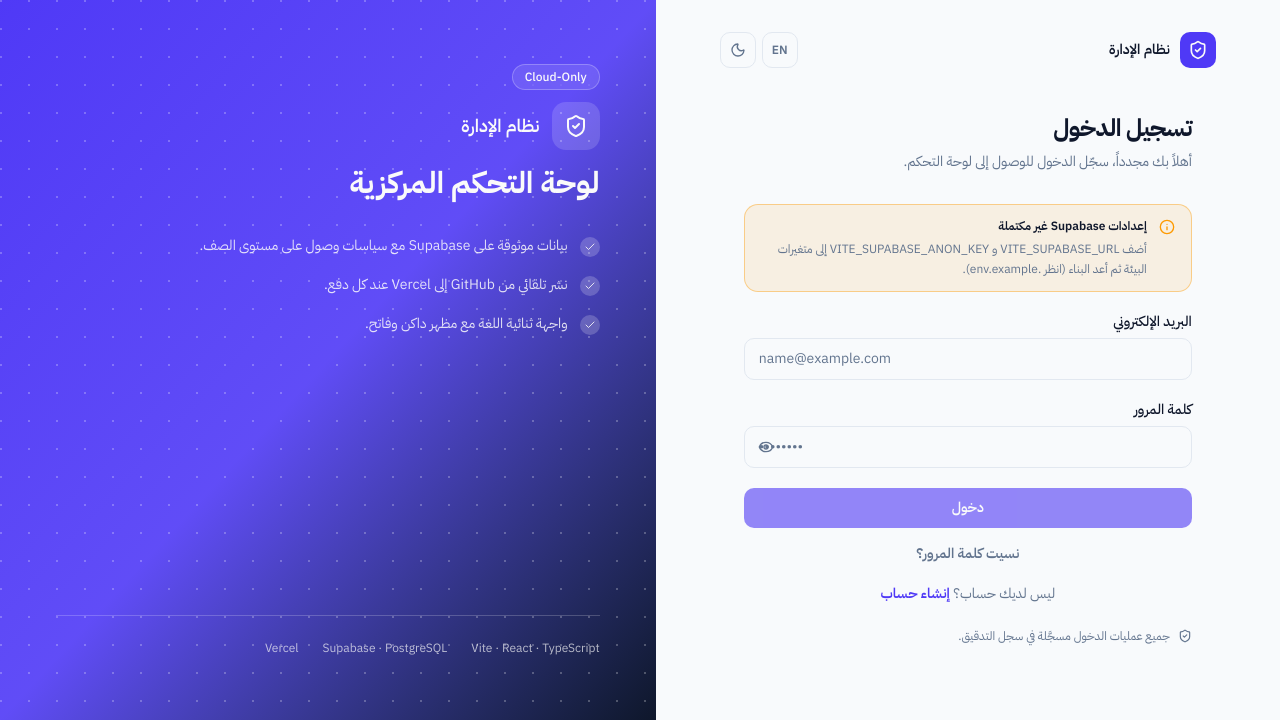
Test: Login (standalone screen) › refuses a rejected account and clears its session
Step 1. Type "pending@example.com" into the field labelled "البريد الإلكتروني" → (968, 359), box left=744, top=338, right=1192, bottom=380
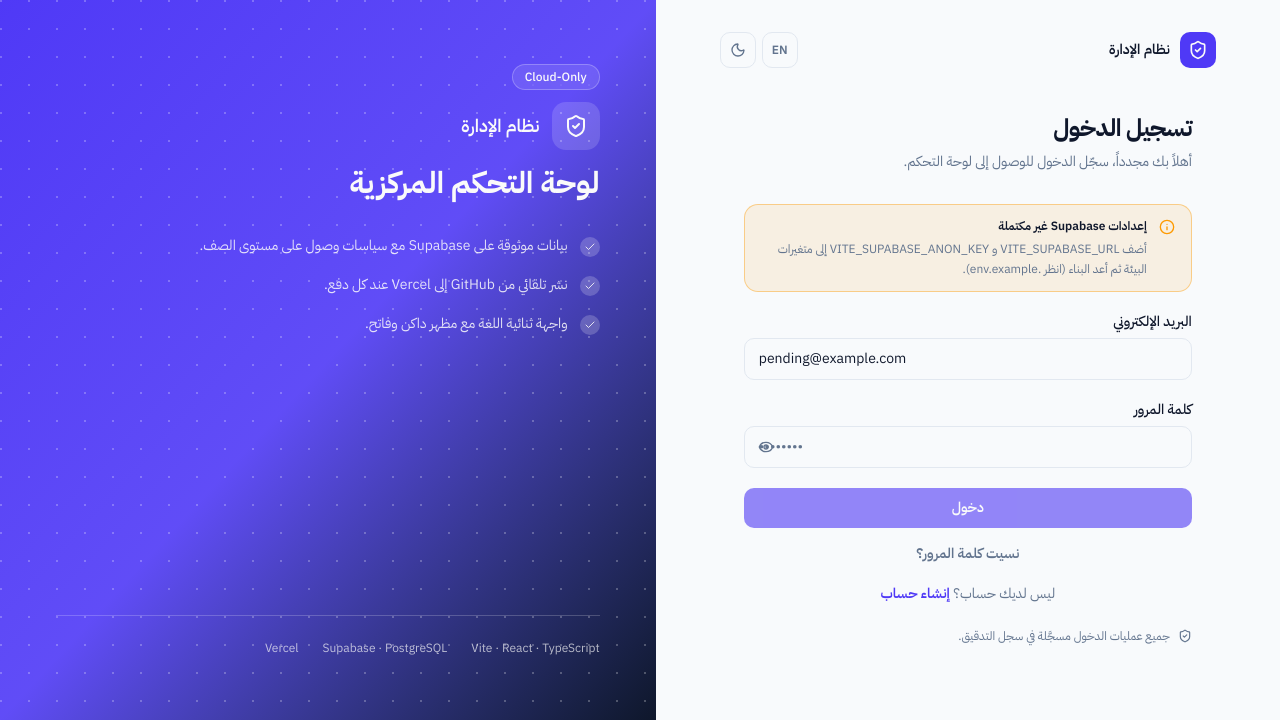
Step 2. Type "secret-pass" into the password field labelled "كلمة المرور" → (968, 447), box left=744, top=426, right=1192, bottom=468
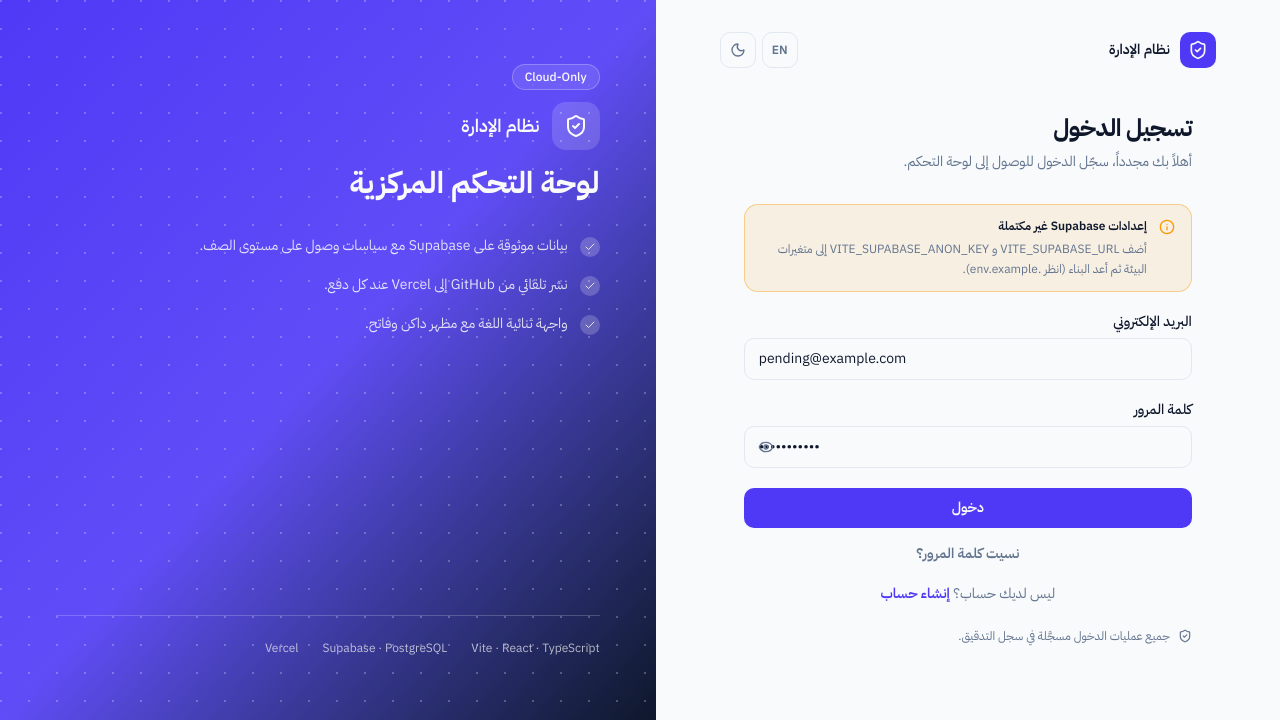
Check: the button "دخول" is enabled
Step 3. Click the button "دخول" → (968, 508), box left=744, top=488, right=1192, bottom=528
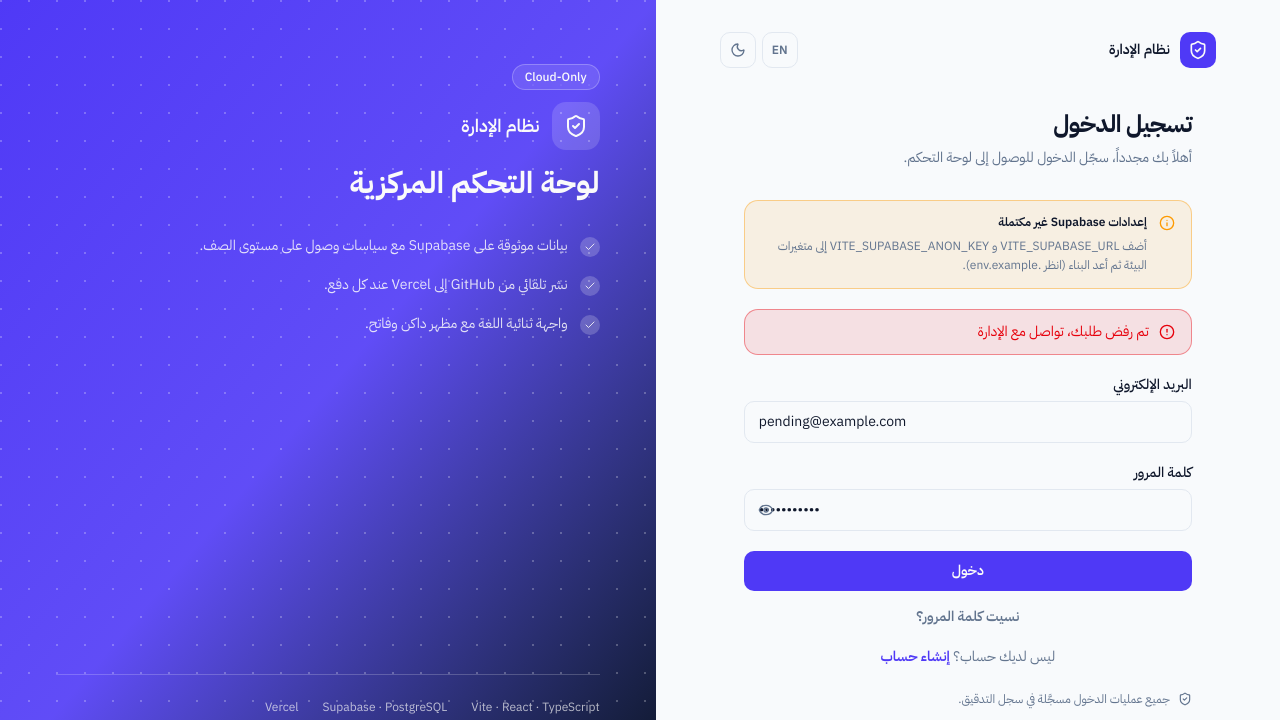
Check: the text "تم رفض طلبك، تواصل مع الإدارة" is shown, box left=978, top=322, right=1149, bottom=342
